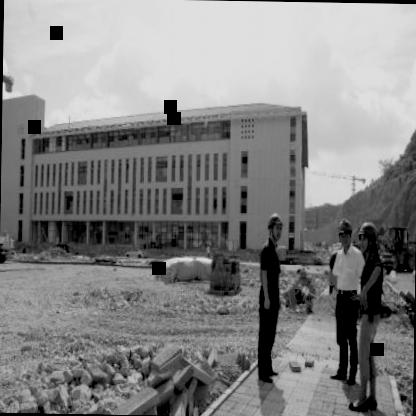helmet: (355, 218, 380, 254), (264, 209, 286, 247), (336, 214, 352, 249)
